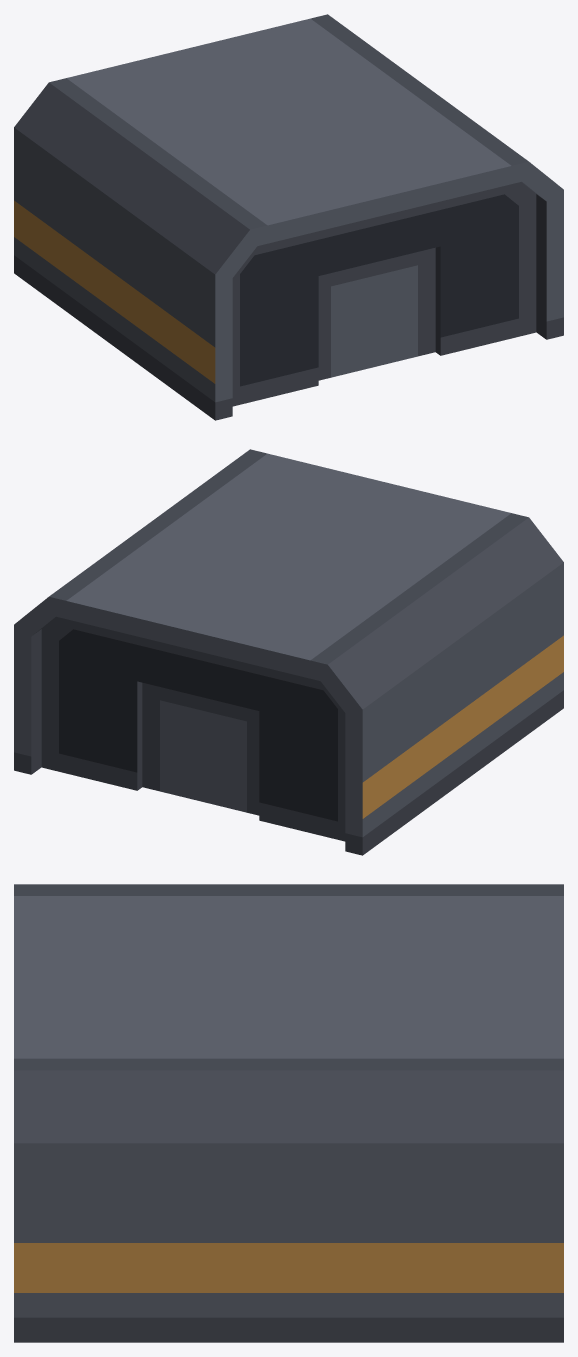
File: station_hangar.glb
The picture shows the model from 3 angles, top to bottom: view 1: azimuth 30°, elevation 25°; view 2: azimuth 150°, elevation 25°; view 3: azimuth 270°, elevation 25°; orthographic projection. The views are drawn at different scales.
Visible parts, largest first — view 1: body; view 2: body; view 3: body.
Part boxes in pixels (x1=…): body: x1=14, y1=14, x2=563, y2=420; body: x1=14, y1=449, x2=563, y2=855; body: x1=14, y1=884, x2=563, y2=1342.
Bounding box in the file's own units: 2 × 1 × 2.
